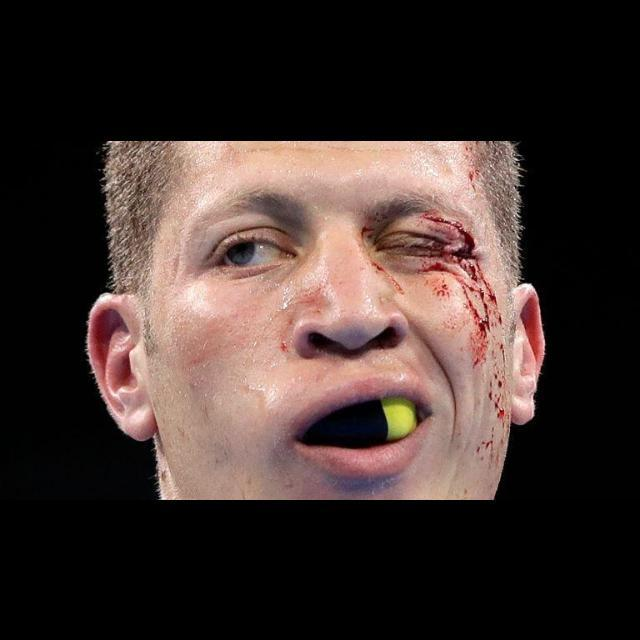blood: (362, 210, 510, 470), (456, 140, 488, 189)
